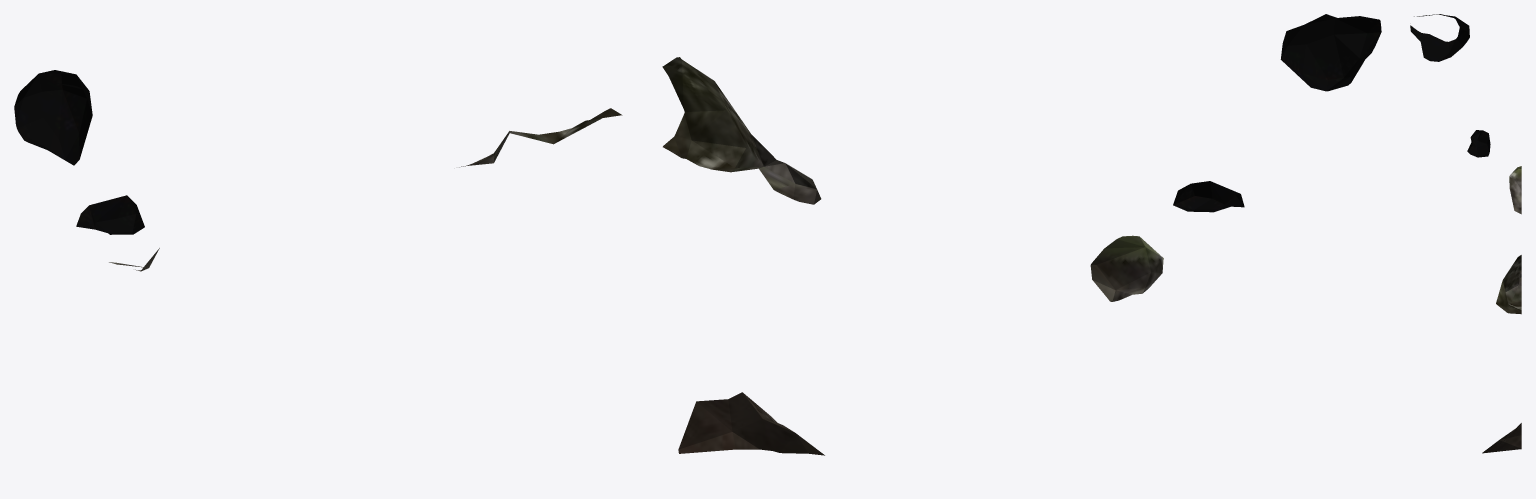
3 renders of one model, left to right at view 1: azimuth 30°, elevation 25°; view 2: azimuth 150°, elevation 25°; view 3: azimuth 270°, elevation 25°, orthographic. The views are drawn at different scales.
Bounding box in the file's own units: 2.95 × 2.38 × 0.7915.
Materials: 1 (1 with a texture image).
